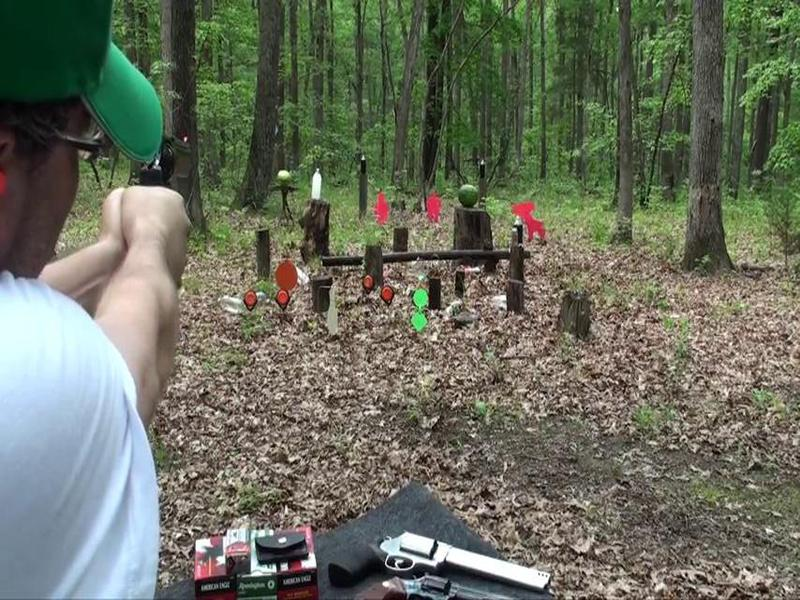Revolver: (115, 118, 200, 213)
